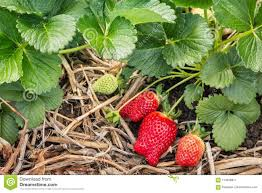ripe: (132, 108, 178, 167), (121, 89, 161, 122)
unripe: (173, 127, 206, 167), (91, 72, 120, 95)
